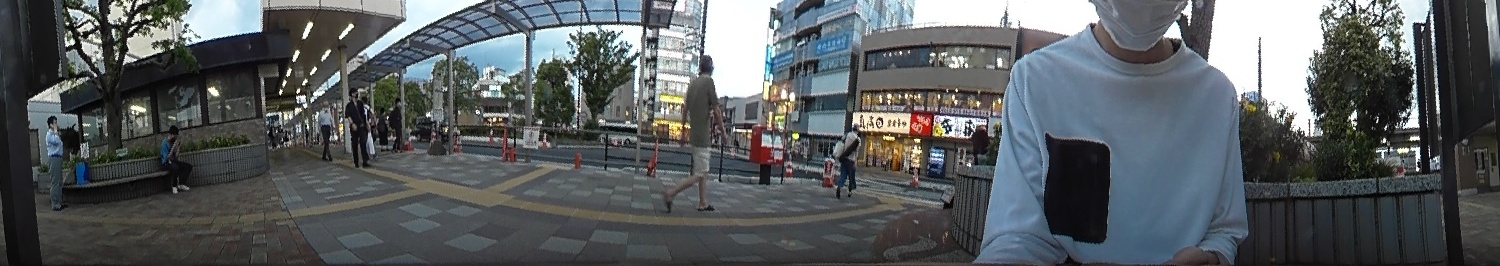difficult_person: (934, 125, 995, 210), (346, 78, 373, 168), (312, 96, 338, 163), (387, 93, 410, 151), (373, 103, 392, 151)
person: (638, 48, 721, 209), (934, 125, 995, 210), (35, 108, 72, 212), (833, 124, 863, 196), (158, 125, 186, 198)
